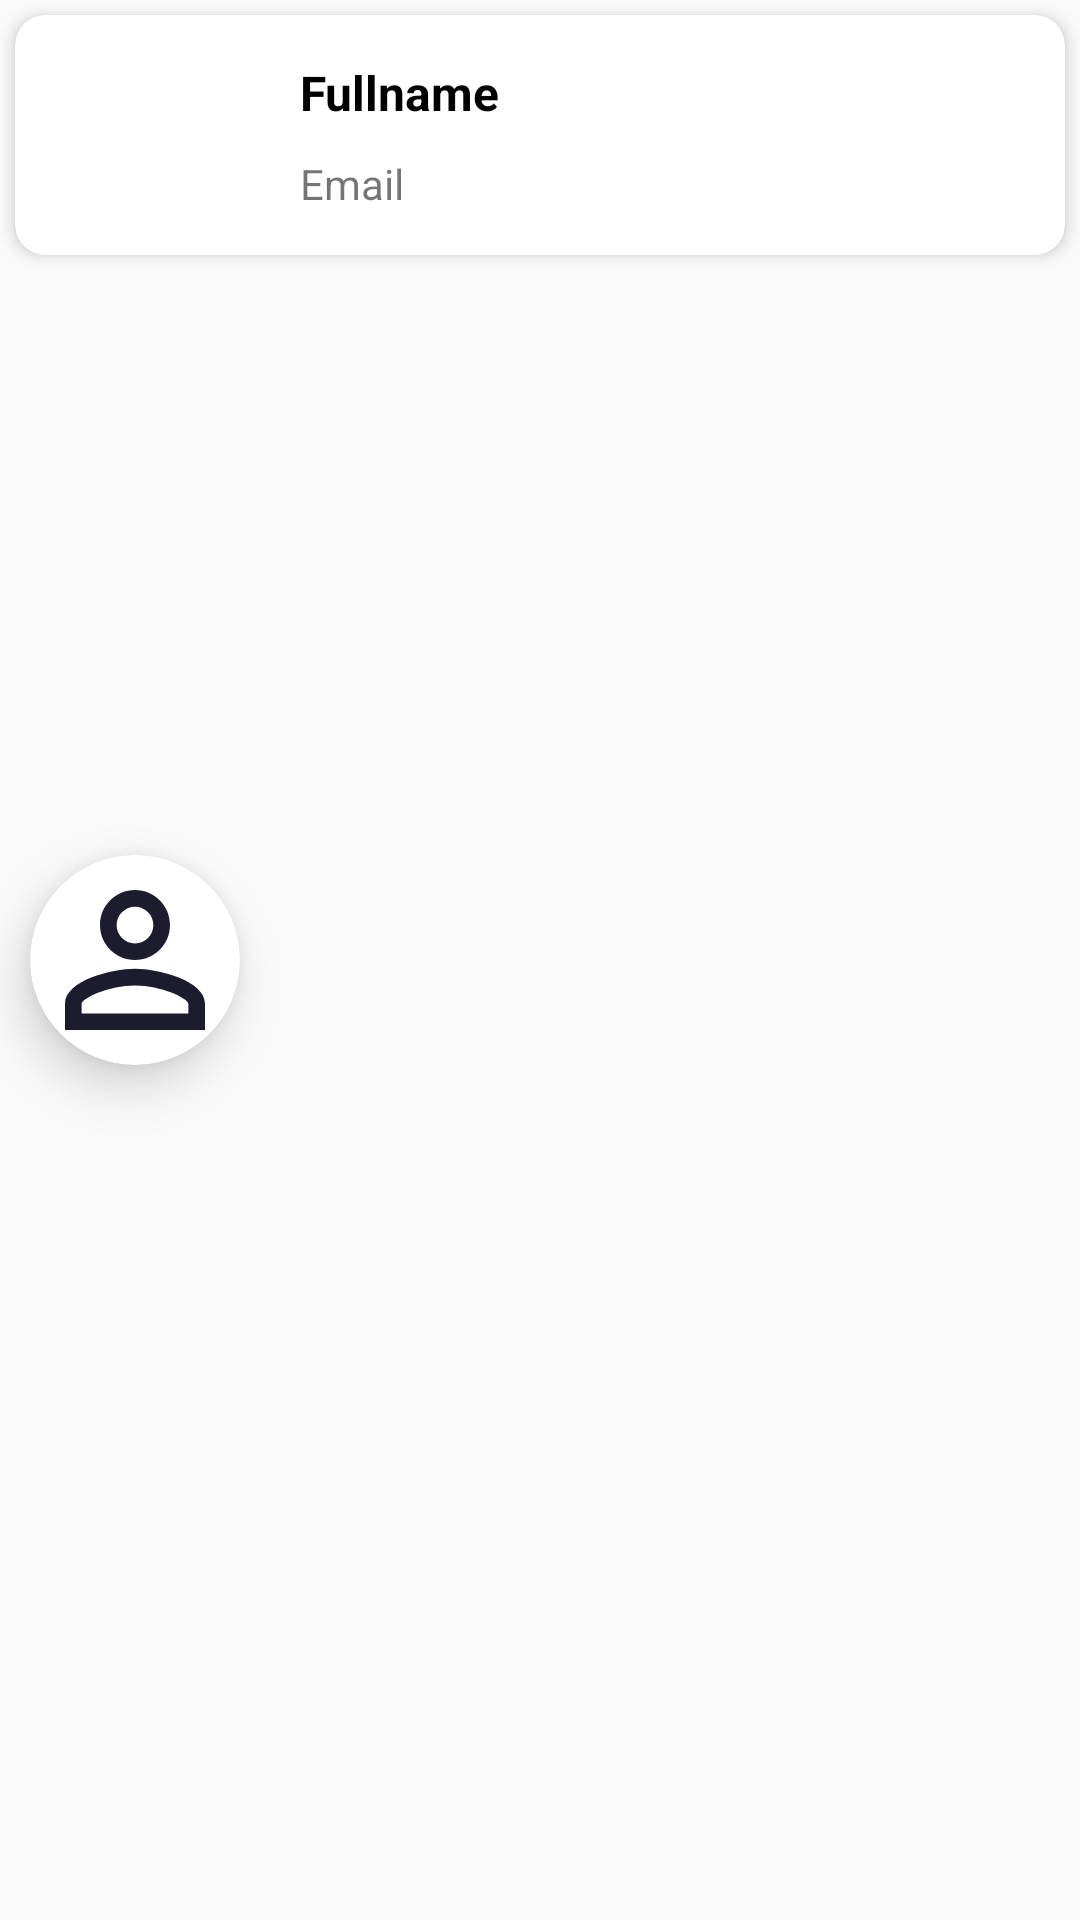

Where icons sit on this 1080px×1920px app screen, as bbox(x1, y1, x2, y2):
people: bbox(30, 855, 240, 1065)
